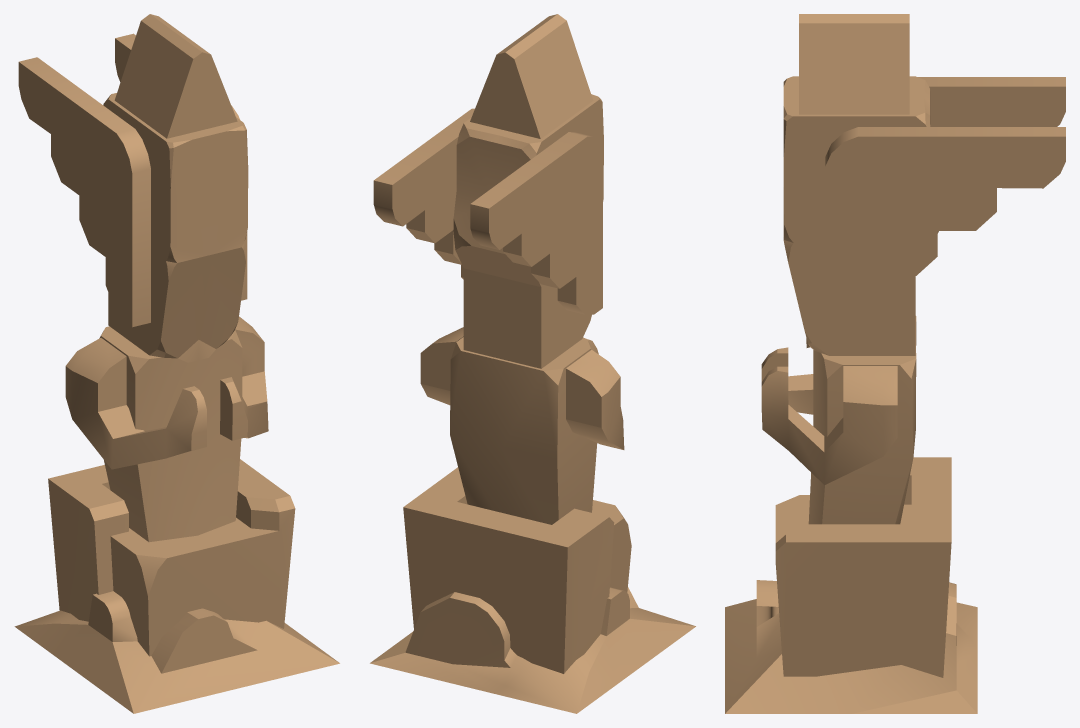
The model's file is OBJ_Sculpture_02.FBX.
3 renders of one model, left to right at view 1: azimuth 30°, elevation 25°; view 2: azimuth 150°, elevation 25°; view 3: azimuth 270°, elevation 25°, orthographic. The views are drawn at different scales.
Parts seen in each view (by area): view 1: OBJ_Sculpture_02; view 2: OBJ_Sculpture_02; view 3: OBJ_Sculpture_02.
Boxes of the visible parts, <box> form: OBJ_Sculpture_02: <box>14,14,339,713</box>; OBJ_Sculpture_02: <box>370,14,695,713</box>; OBJ_Sculpture_02: <box>725,14,1065,713</box>.
Size of the model in its own units: 6 by 16.94 by 8.09.
